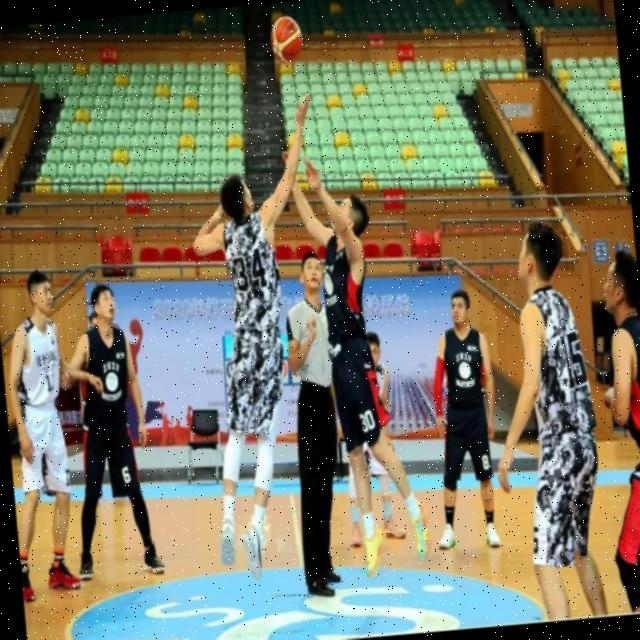ball: (270, 14, 304, 64)
